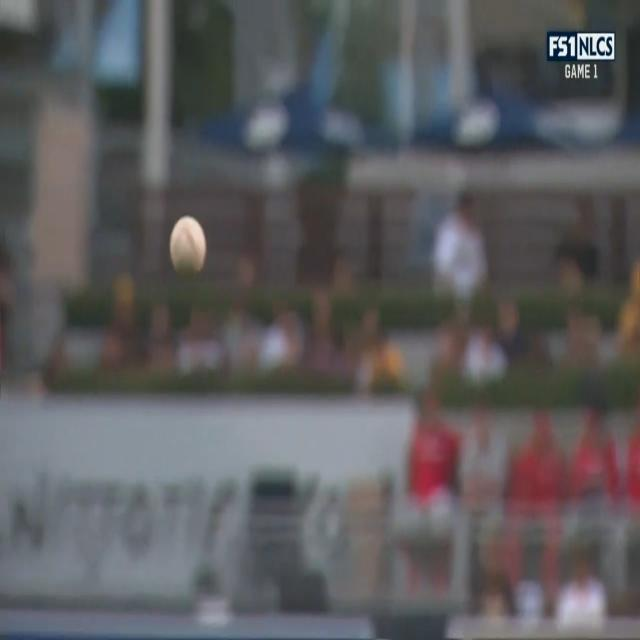baseball: (170, 214, 207, 277)
